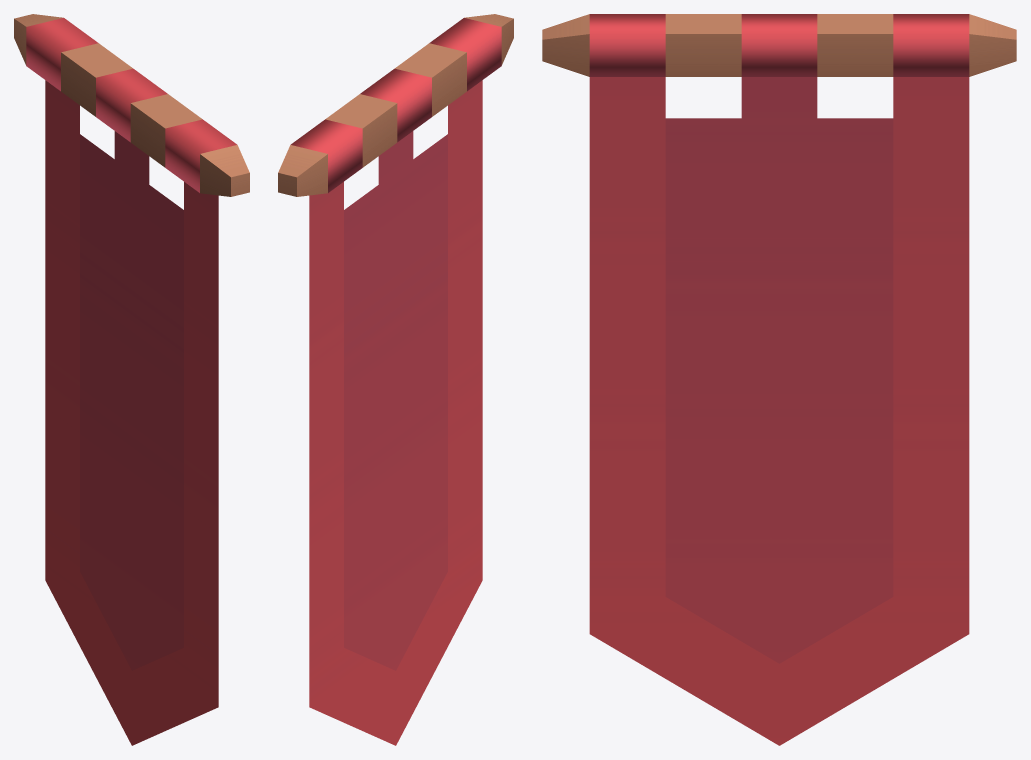
Rendered from banner-red.fbx.
3 views of the same model, side by side, from view 1: azimuth 30°, elevation 25°; view 2: azimuth 150°, elevation 25°; view 3: azimuth 270°, elevation 25° (orthographic). The views are drawn at different scales.
Visible parts, largest first — view 1: banner-red; view 2: banner-red; view 3: banner-red.
Boxes of the visible parts, bbox=[...] form: banner-red: bbox=[14, 14, 249, 745]; banner-red: bbox=[278, 14, 513, 745]; banner-red: bbox=[542, 14, 1016, 745].
Size of the model in its own units: 5 by 83.94 by 50.
1 material, 1 textured.
